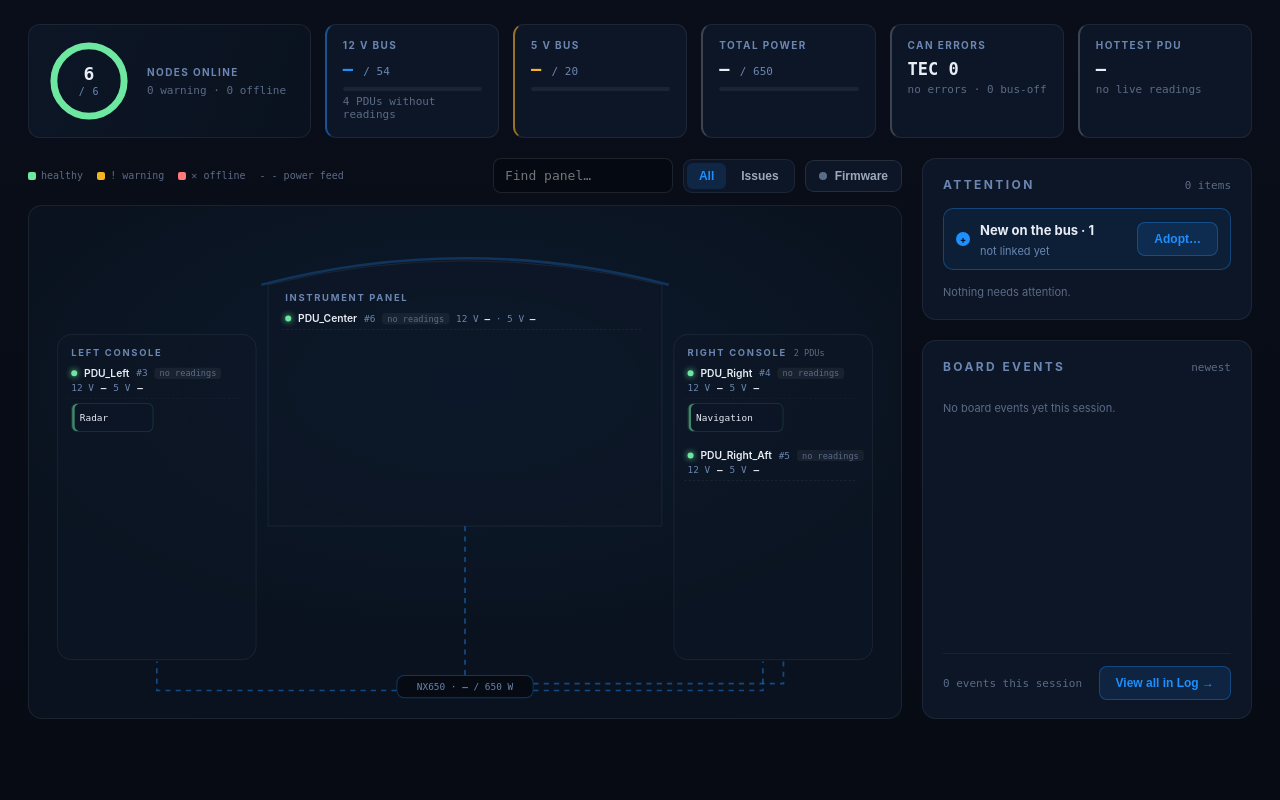
Test case: T16 Board panel Settings tab (B72, X2) › the display name, where its defaults come from, and the placement
Click the button titled "#2 Right_Navigation". click: (736, 417)
box: x1=688 y1=403 x2=784 y2=432
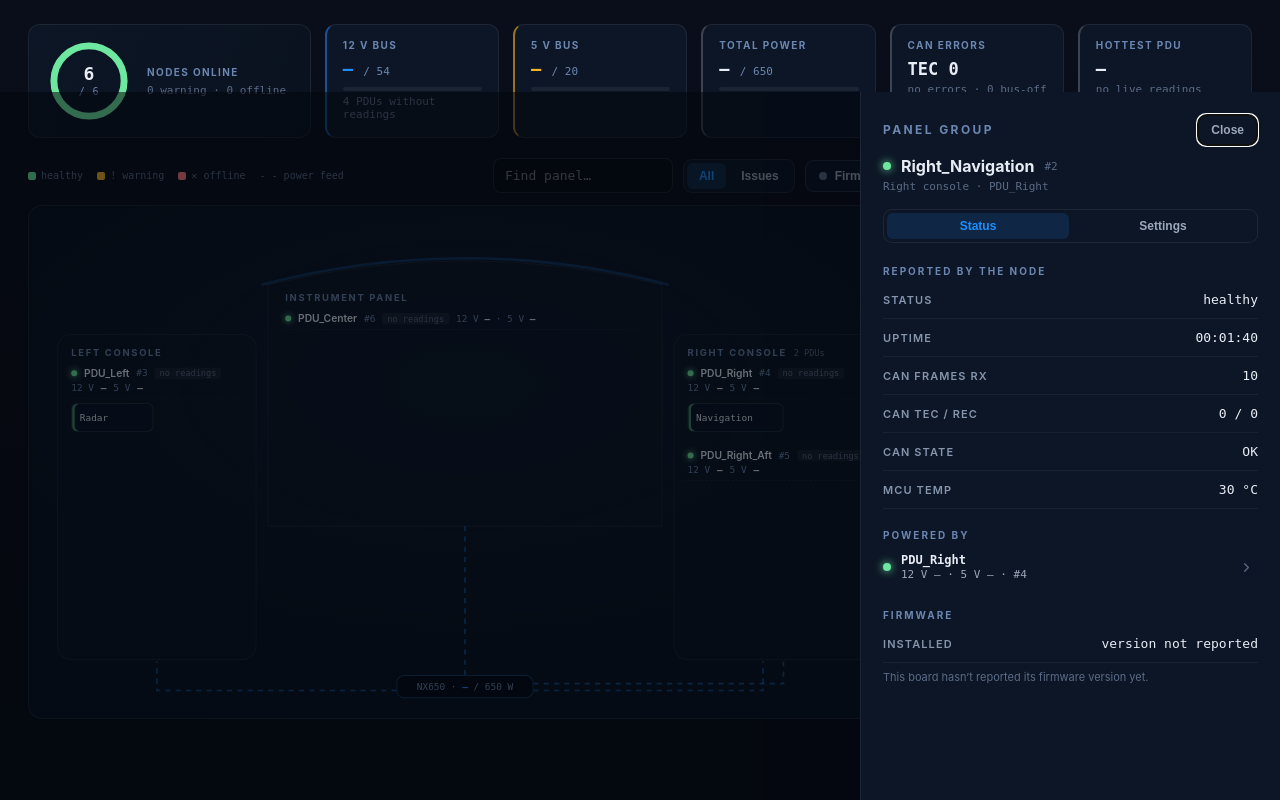
Click the tab "Settings". click: (1163, 226)
box: x1=1072 y1=213 x2=1254 y2=239
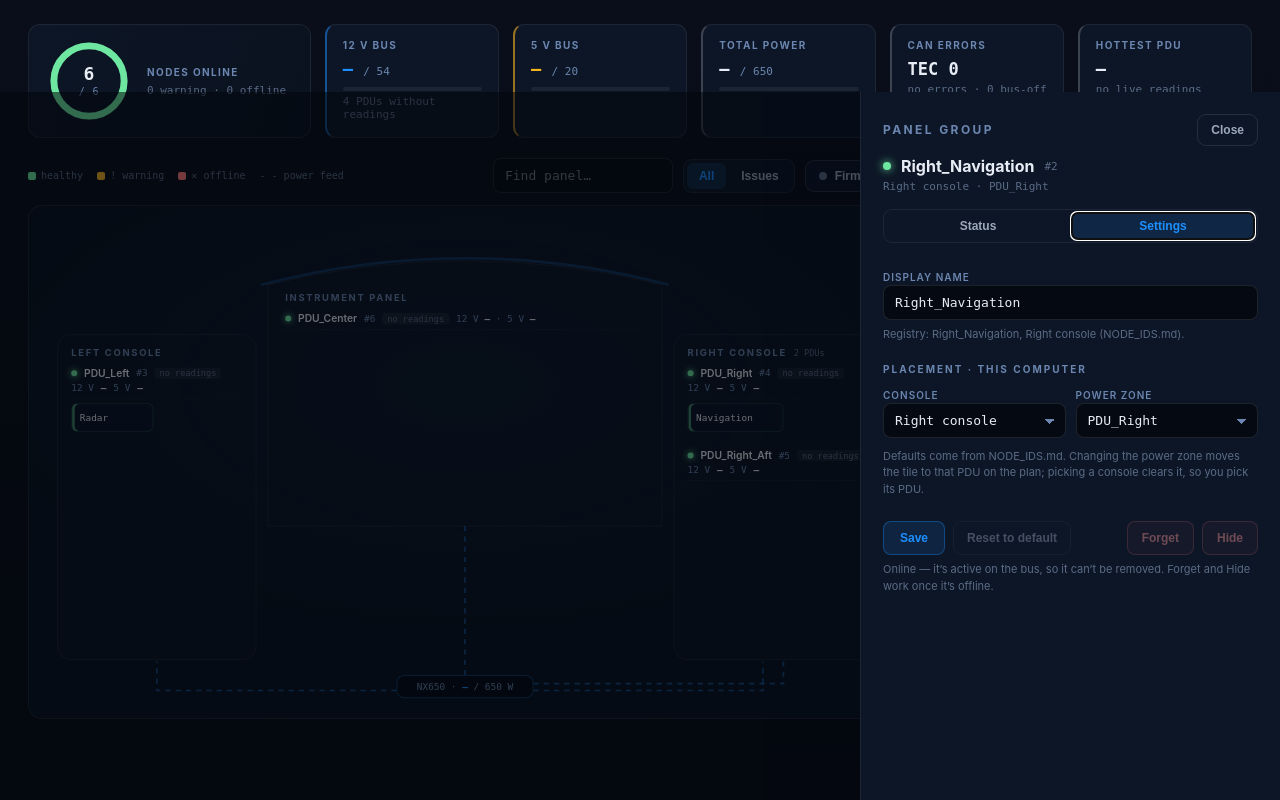
Check: the field labelled "Display name" holds "Right_Navigation", box x1=883 y1=285 x2=1258 y2=320
Check: the text "Registry: Right_Navigation, Right console (NODE_IDS.md)." is shown, box x1=883 y1=327 x2=1184 y2=341
Check: the dropdown labelled "Console" shows "Right console", box x1=883 y1=402 x2=1066 y2=438
